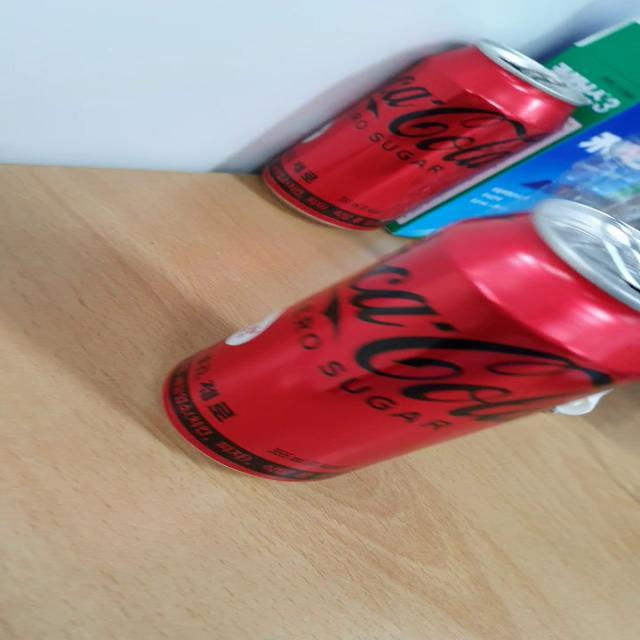coca-cola: (134, 198, 640, 507), (255, 35, 580, 237)
